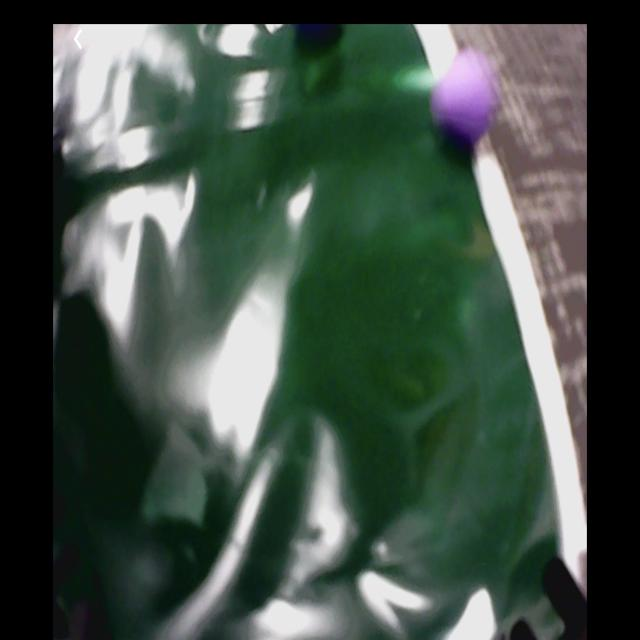ball: (436, 55, 493, 142)
